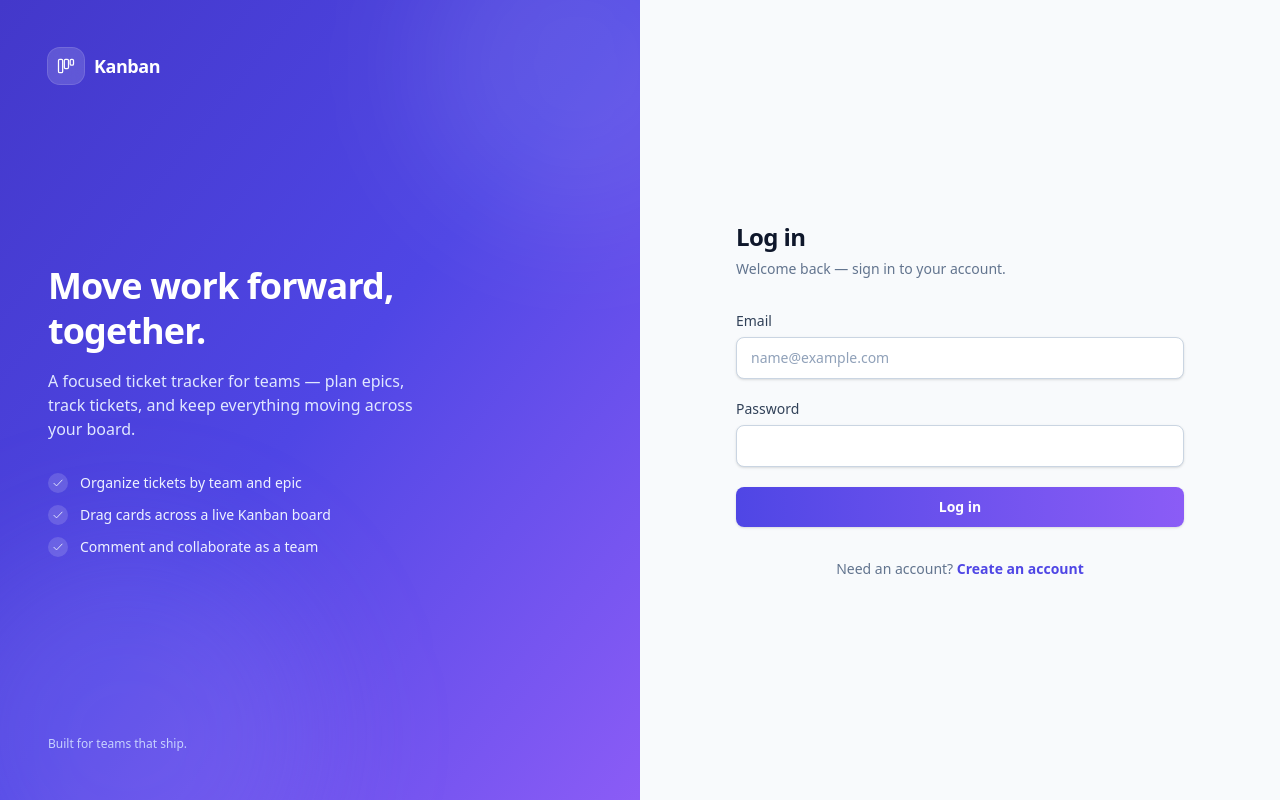
Test: bad credentials show a generic error
The width and height of the screenshot is (1280, 800).
In the field labelled "Email": (960,358) [736,337,1184,379], type "jane@example.com"
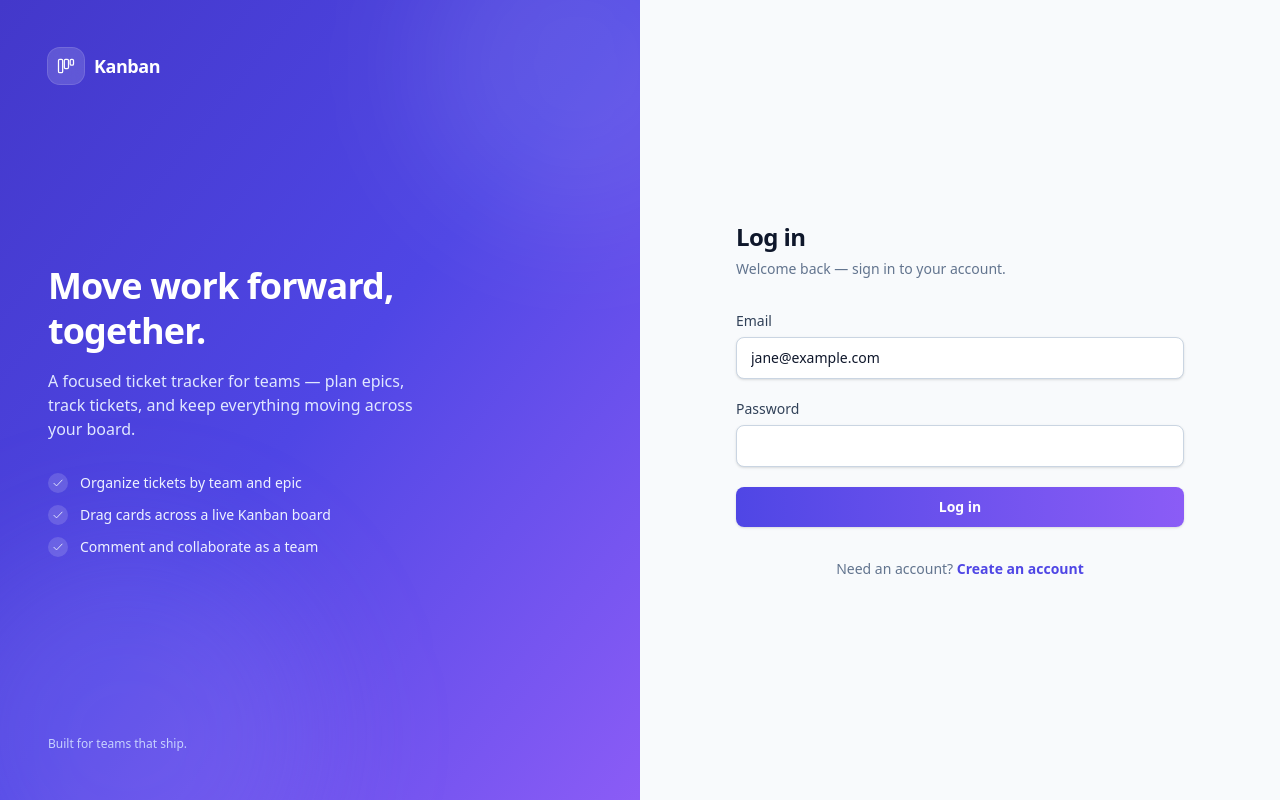
In the password field labelled "Password": (960,446) [736,425,1184,467], type "password123"
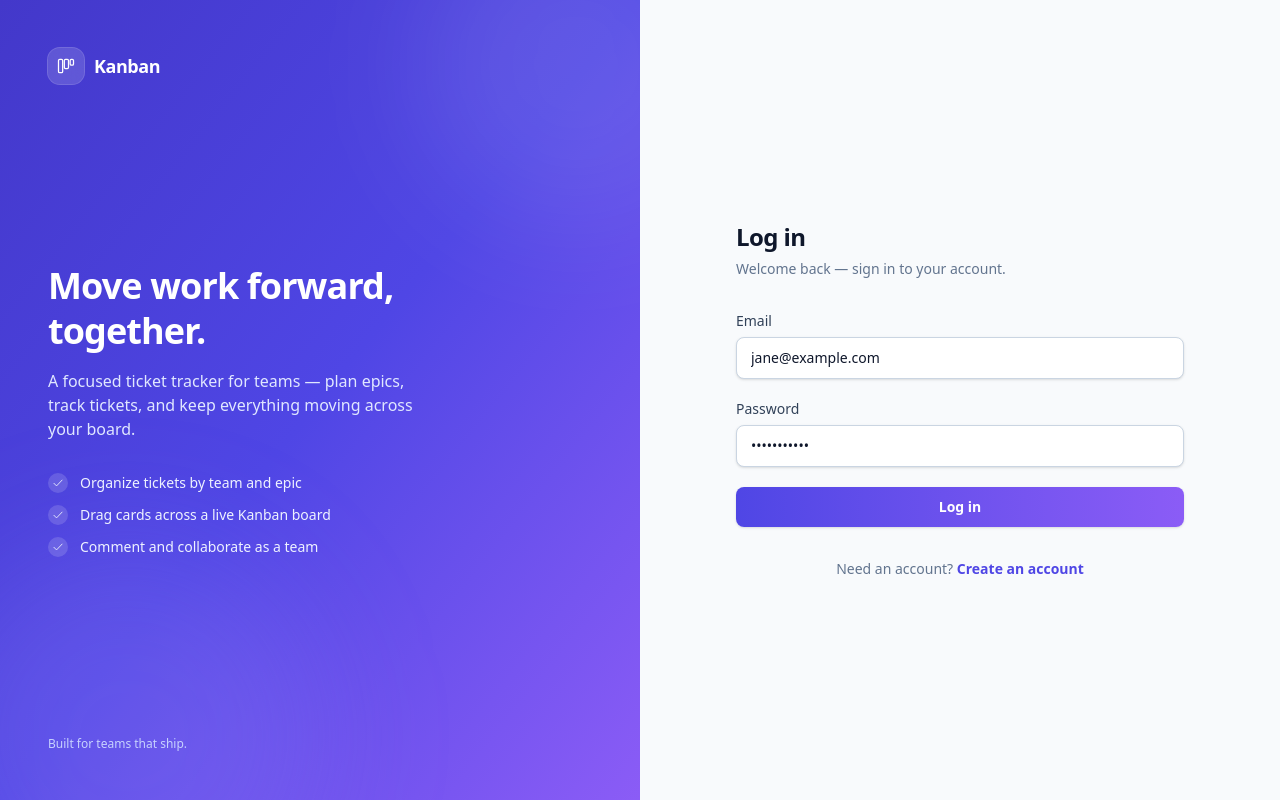
Click the button "Log in": (960,507) [736,487,1184,527]
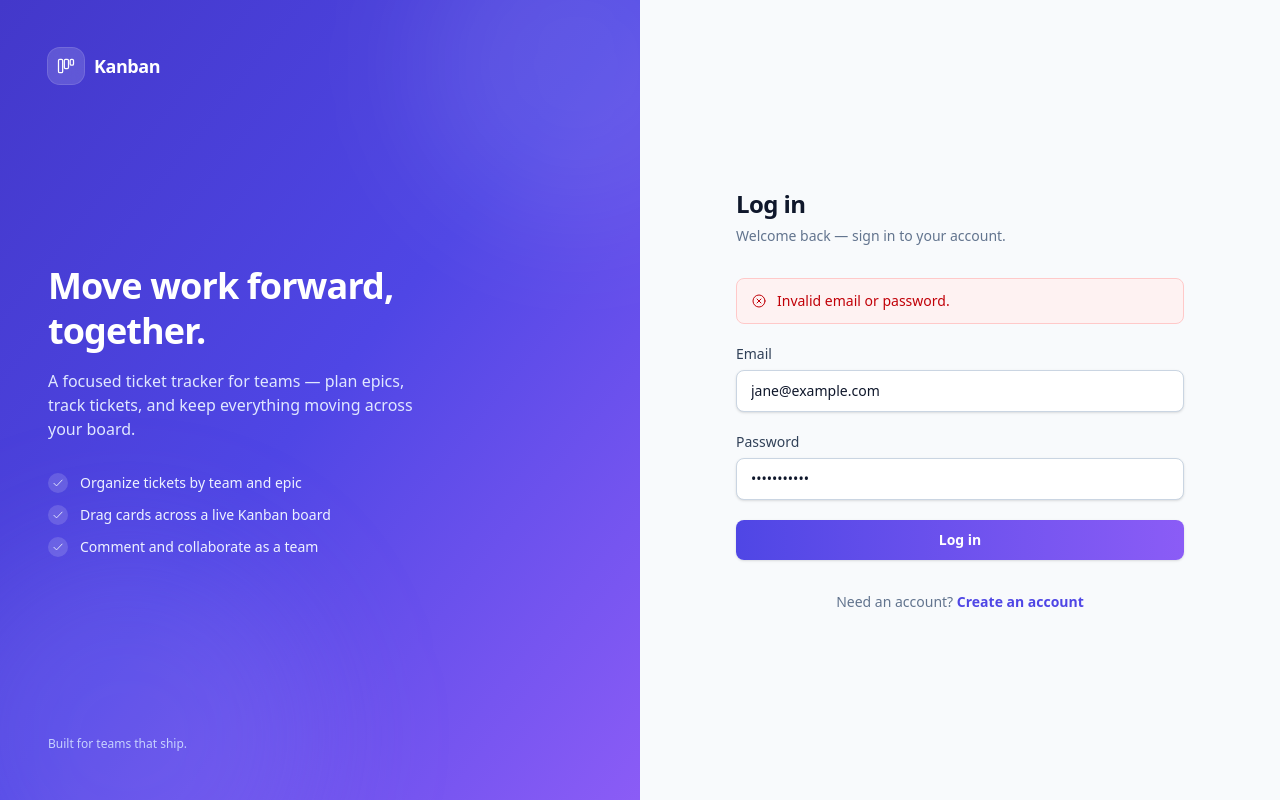
Expected: the text "Invalid email or password." is shown, [777,291,950,311]
